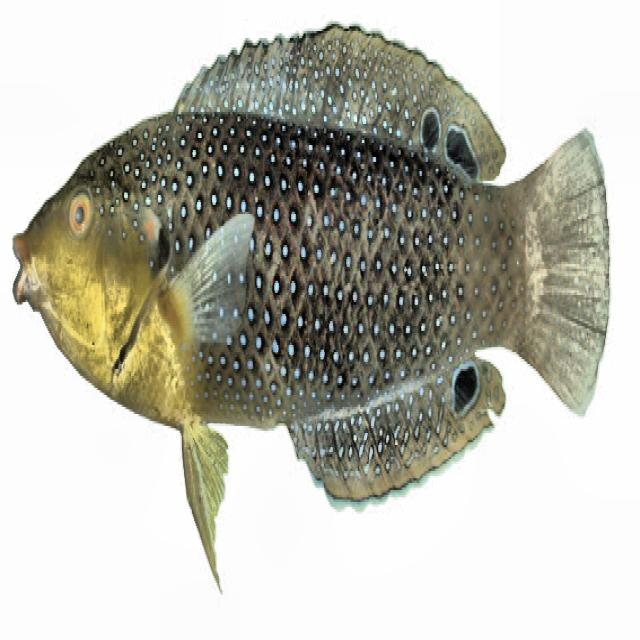fish: (11, 22, 613, 601)
